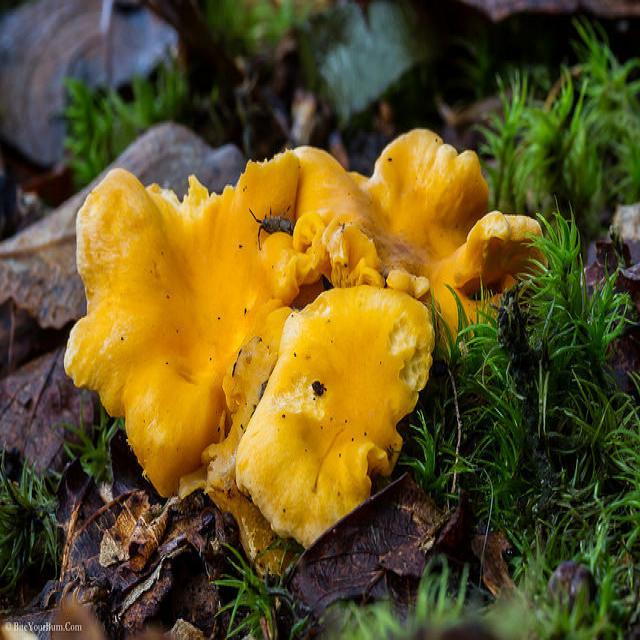chanterelle: (64, 171, 287, 501), (236, 286, 435, 547)
